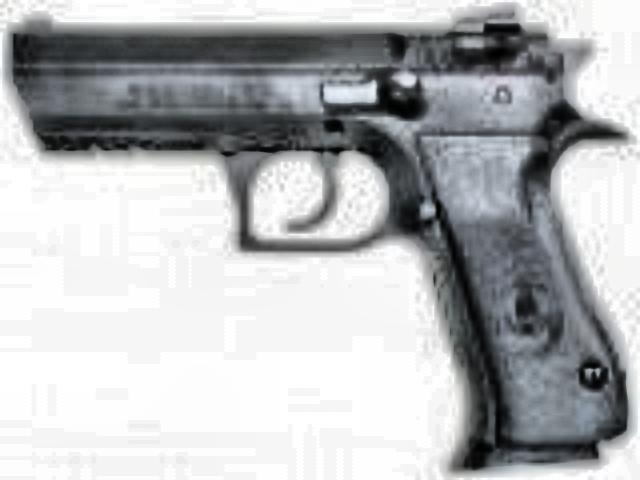pistol: (4, 4, 624, 476)
